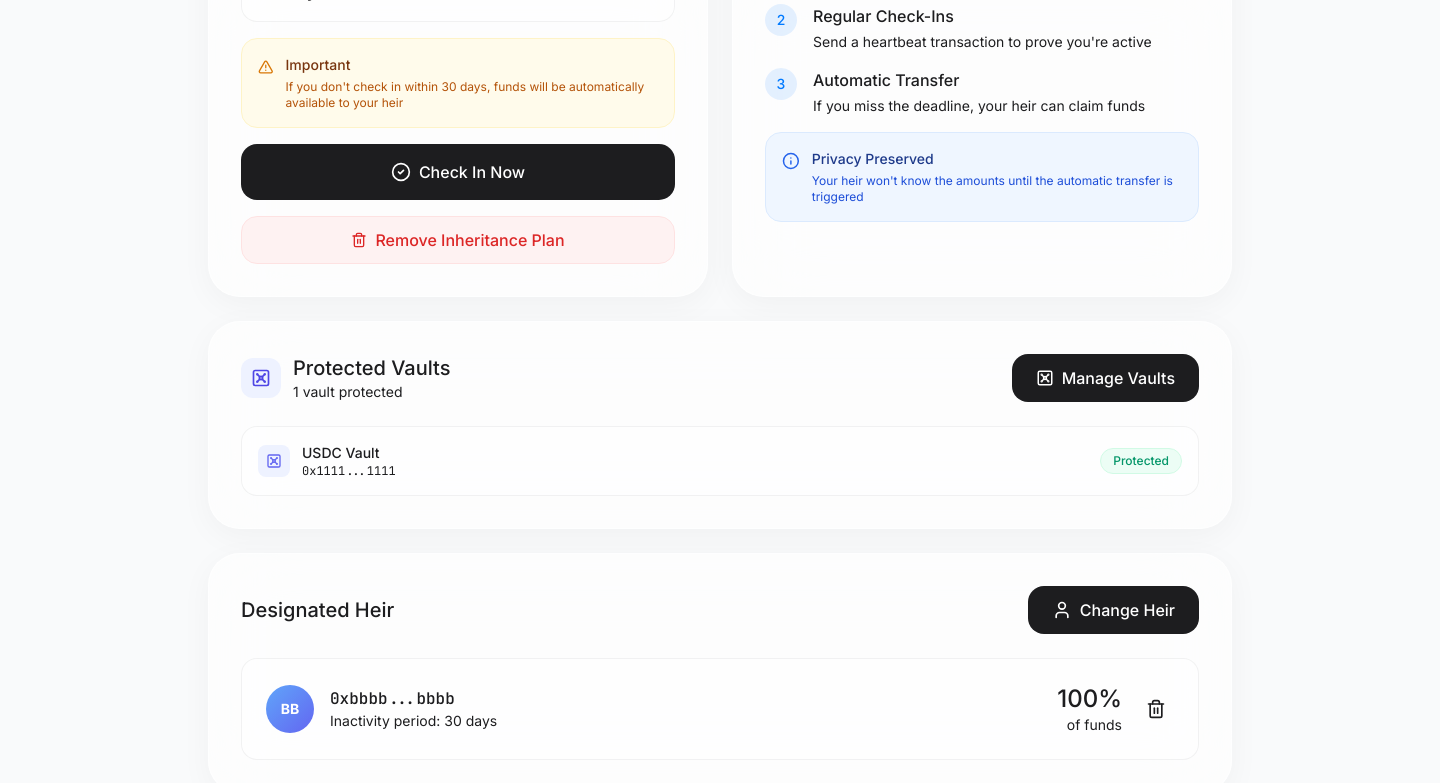
InheritancePlanning — Vault selector modal (§15.x) › Save button label includes selected count + pluralization
(page scrolled)
Click the button "Manage Vaults".
click(1105, 378)  # box [1012,354,1199,402]
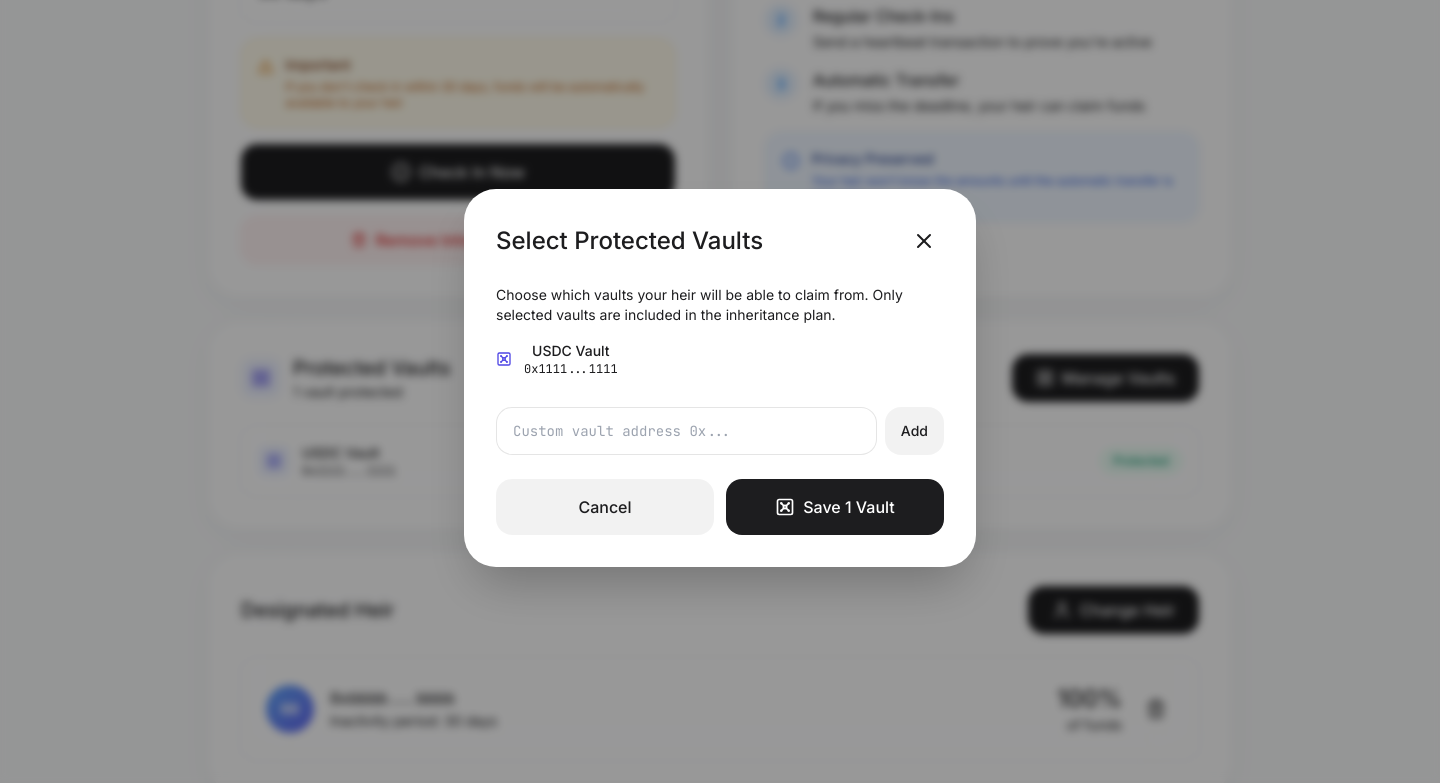
Check: the text "Save 1 Vault" is shown, box [726,479,944,535]
Click the button "USDC Vault 0x1111...1111".
click(557, 366)  # box [496,341,618,391]
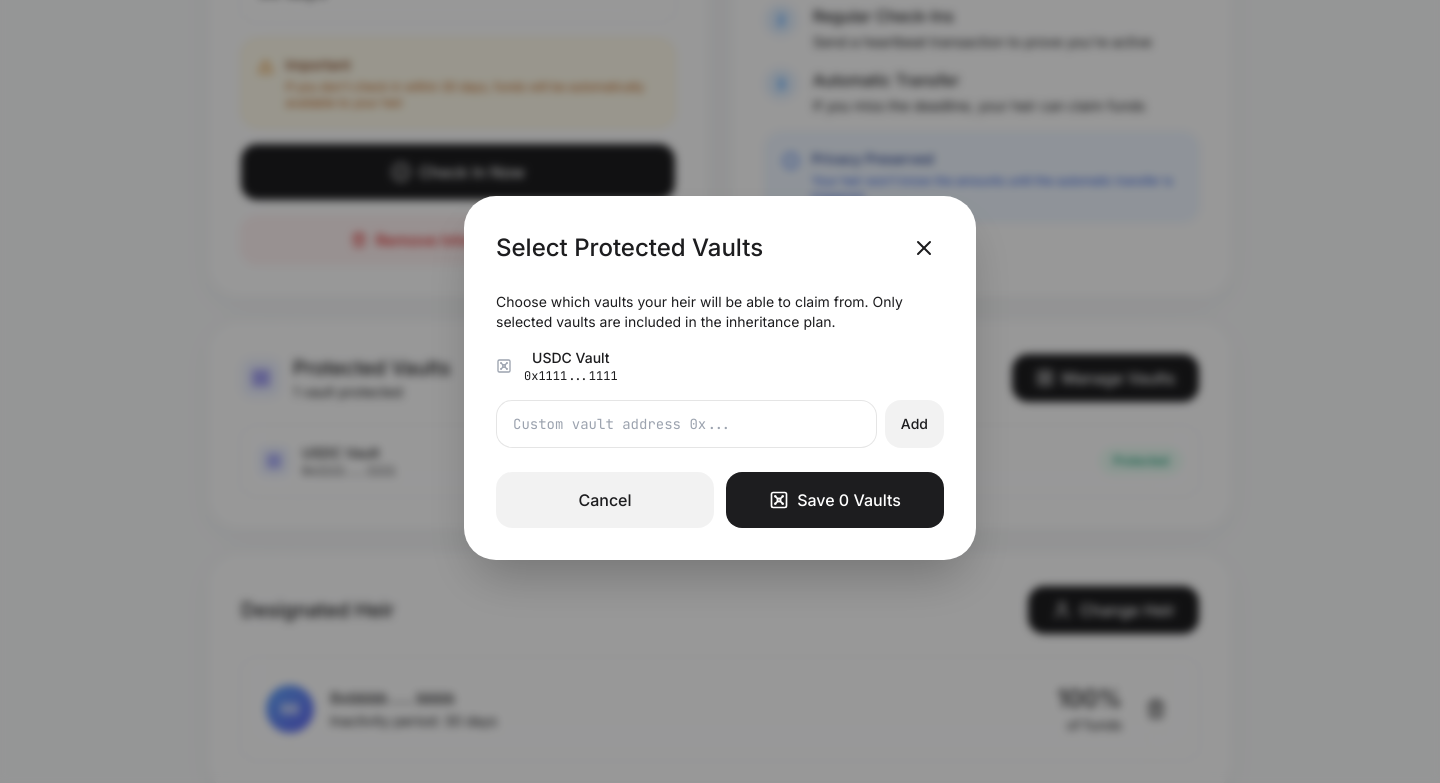
Check: the text "Save 0 Vaults" is shown, box [726,472,944,528]
